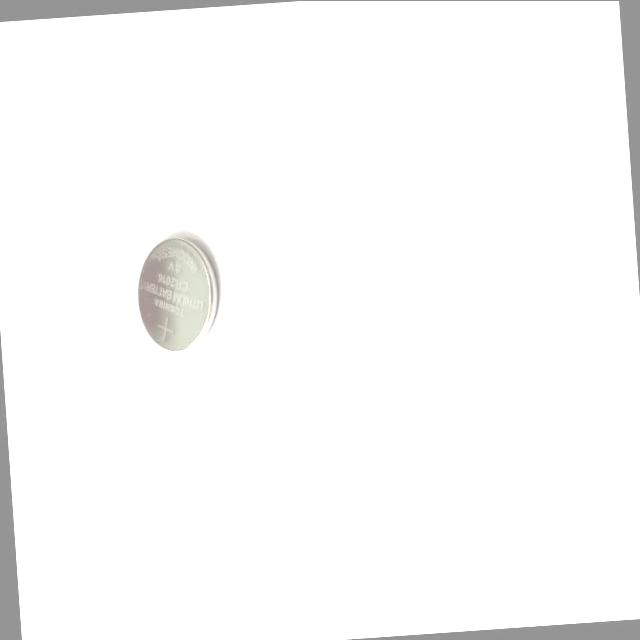COIN: (132, 230, 226, 356)
